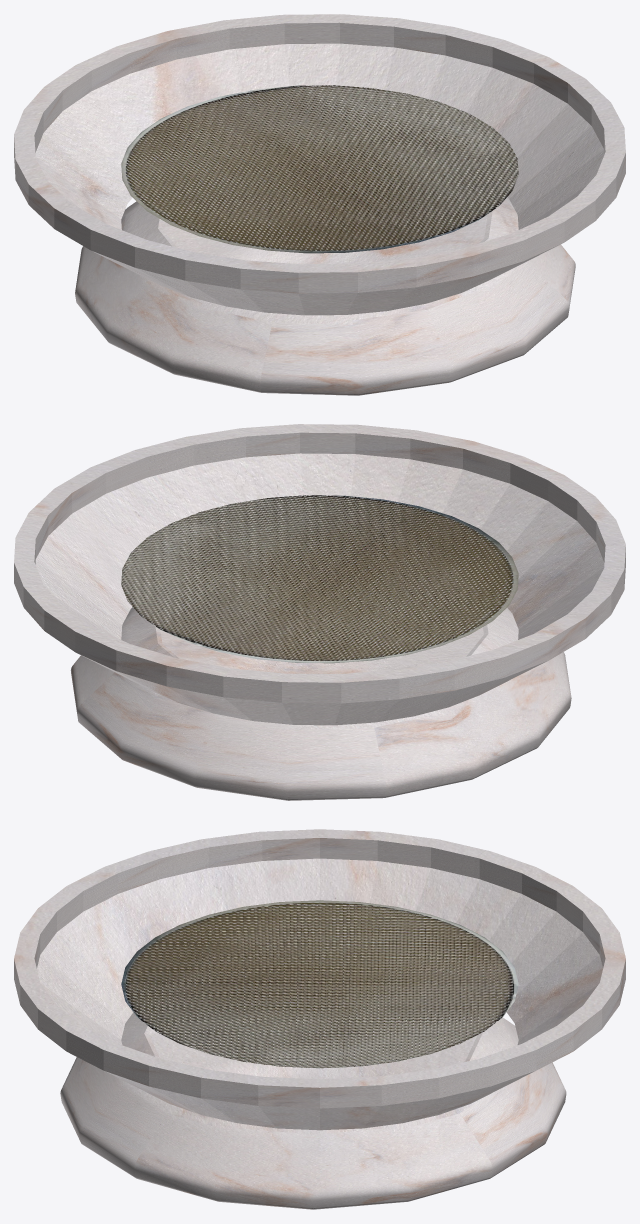
3 renders of one model, top to bottom at view 1: azimuth 30°, elevation 25°; view 2: azimuth 150°, elevation 25°; view 3: azimuth 270°, elevation 25°, orthographic.
Visible parts, largest first — view 1: Circle001, Line001, Line002; view 2: Circle001, Line001, Line002; view 3: Circle001, Line001, Line002.
Boxes of the visible parts, x1,y1,x2,y2 form: Circle001: [14, 14, 625, 315]; Line001: [121, 85, 518, 253]; Line002: [75, 197, 575, 395]; Circle001: [14, 424, 625, 725]; Line001: [121, 495, 518, 663]; Line002: [70, 607, 571, 800]; Circle001: [14, 829, 625, 1130]; Line001: [121, 900, 518, 1068]; Line002: [60, 1012, 566, 1209].
Bounding box in the file's own units: 201 × 59.1 × 201.
Materials: 2 (2 with a texture image).
